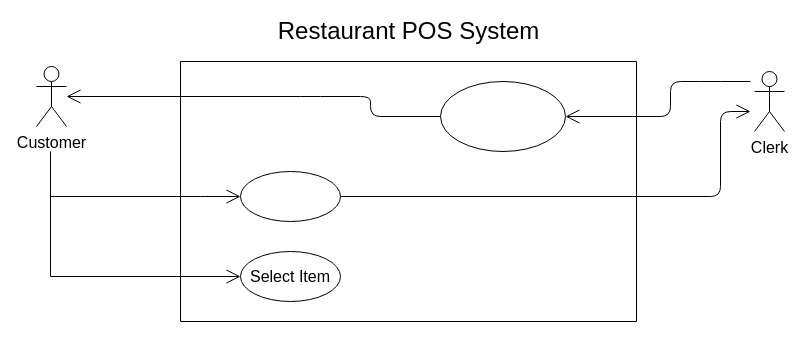
Some shapes in this 805 by 339 pixel diagram are drawn without their labels. Each missing label, with the centre of its shape:
"Manage customer's order" belongs at pixel 503 116.
"Send order" belongs at pixel 290 196.
